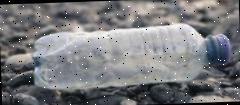plastic: (29, 20, 231, 92)
